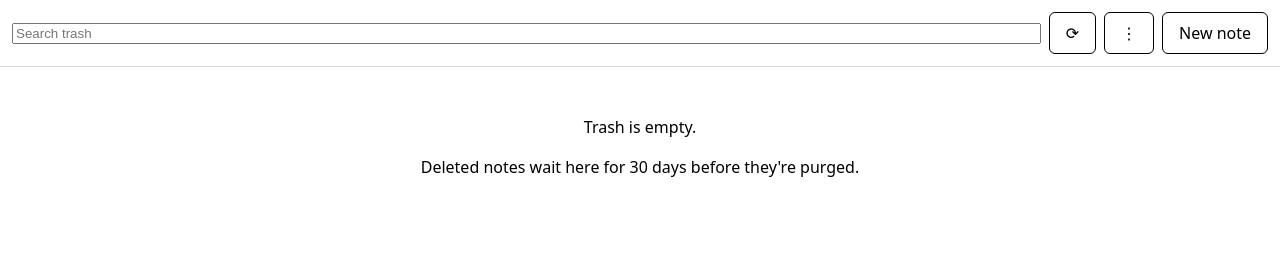
NoteList › overflow menu flips to "Back to notes" while in trash view
Click the button named "Menu": [1129, 33] box [1104,12,1154,54]
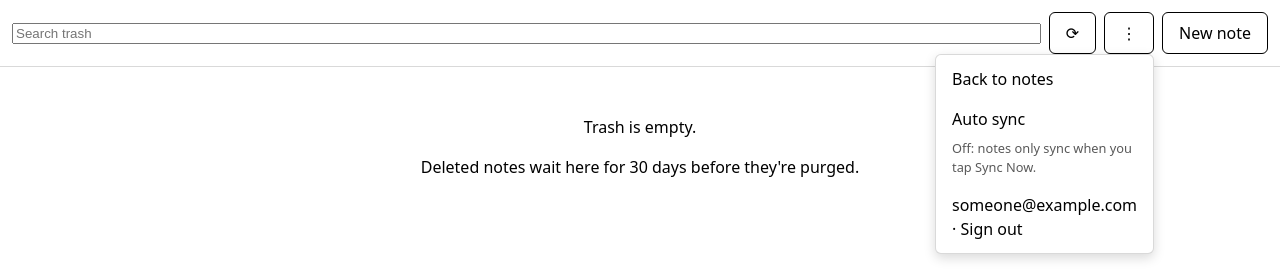
Expected: the menu item "Back to notes" is shown, [940,59,1149,99]
